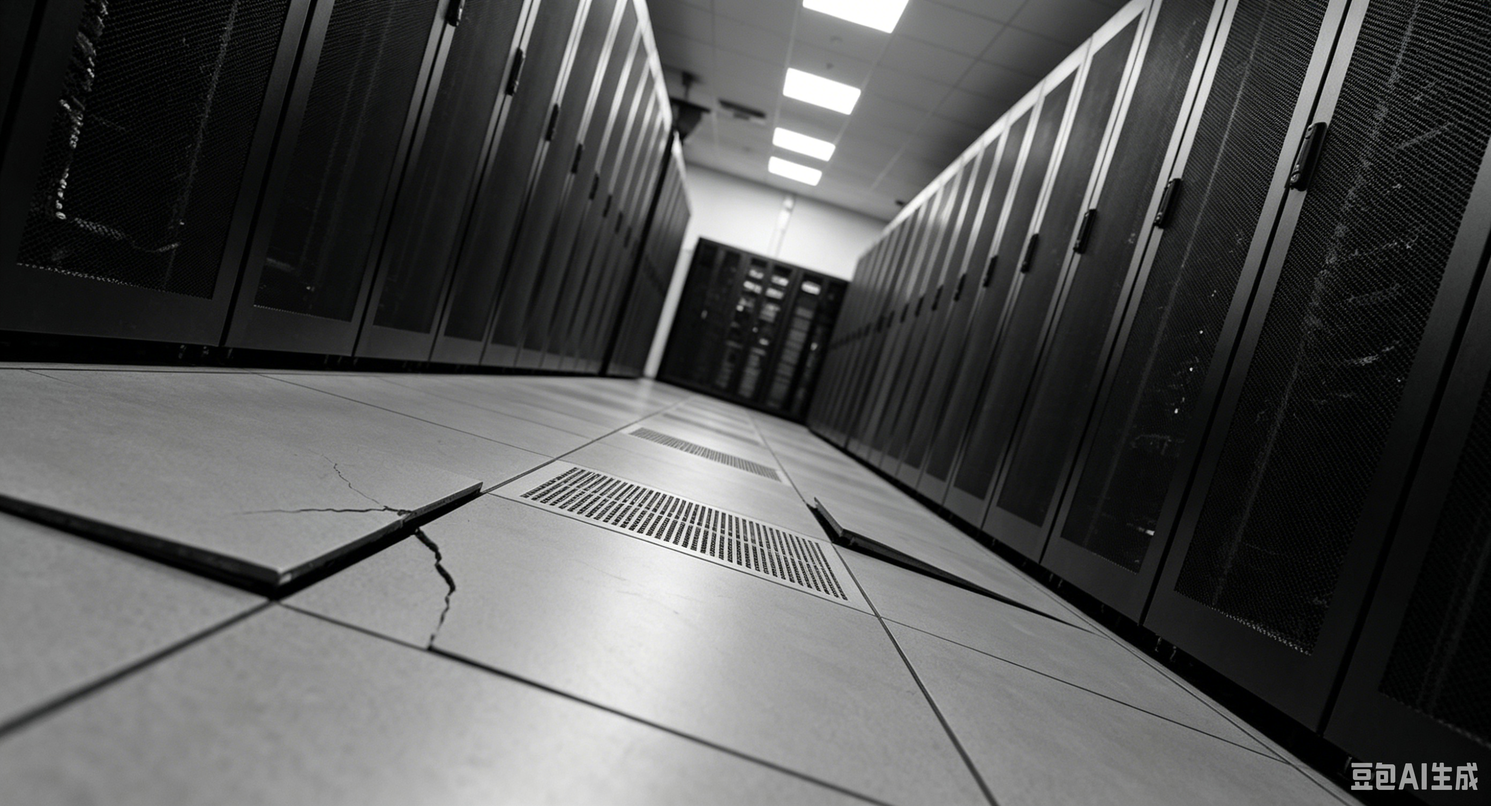floor_defect: (29, 483, 310, 600), (785, 477, 1023, 588), (316, 450, 428, 529), (402, 531, 465, 664), (310, 529, 396, 584), (972, 594, 1076, 629), (428, 476, 488, 527)
